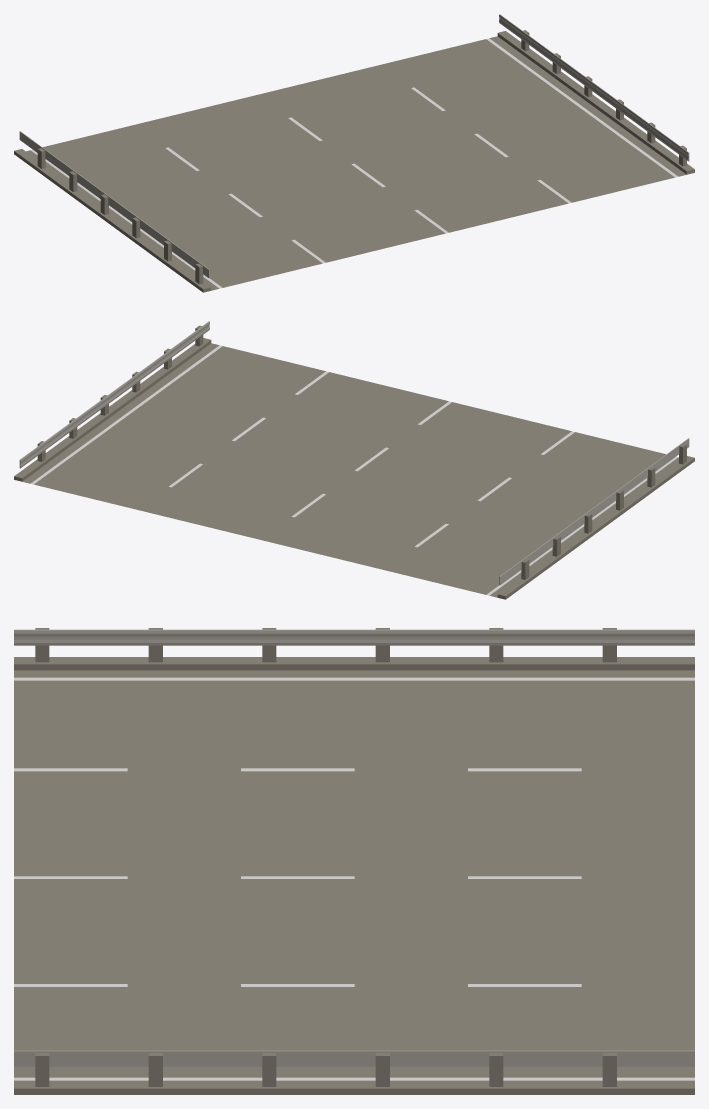
The model's file is highway_Straight_Rail.fbx.
3 views of the same model, one above another, from view 1: azimuth 30°, elevation 25°; view 2: azimuth 150°, elevation 25°; view 3: azimuth 270°, elevation 25° (orthographic). The views are drawn at different scales.
Parts seen in each view (by area): view 1: Plane.001; view 2: Plane.001; view 3: Plane.001.
Boxes of the visible parts, <box> form: Plane.001: <box>14,14,694,292</box>; Plane.001: <box>14,321,694,599</box>; Plane.001: <box>14,628,694,1094</box>.
Bounding box in the file's own units: 30 × 1.25 × 20.
